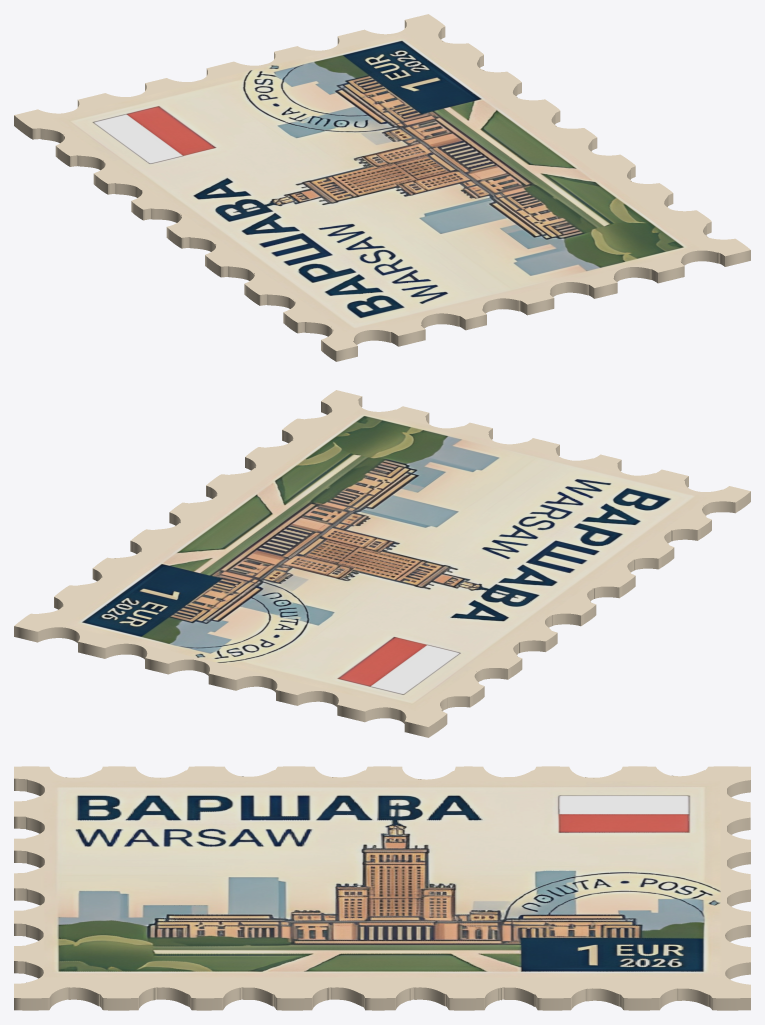
The model's file is Card_Warsaw.glb.
3 views of the same model, one above another, from view 1: azimuth 30°, elevation 25°; view 2: azimuth 150°, elevation 25°; view 3: azimuth 270°, elevation 25° (orthographic). The views are drawn at different scales.
Visible parts, largest first — view 1: Curve; view 2: Curve; view 3: Curve.
Part boxes in pixels (box(x1,y1,x2,y2)): Curve: box(14, 14, 750, 361); Curve: box(14, 390, 750, 737); Curve: box(14, 766, 750, 1010).
Bounding box in the file's own units: 124 × 3.07 × 167.
Materials: 1 (1 with a texture image).
